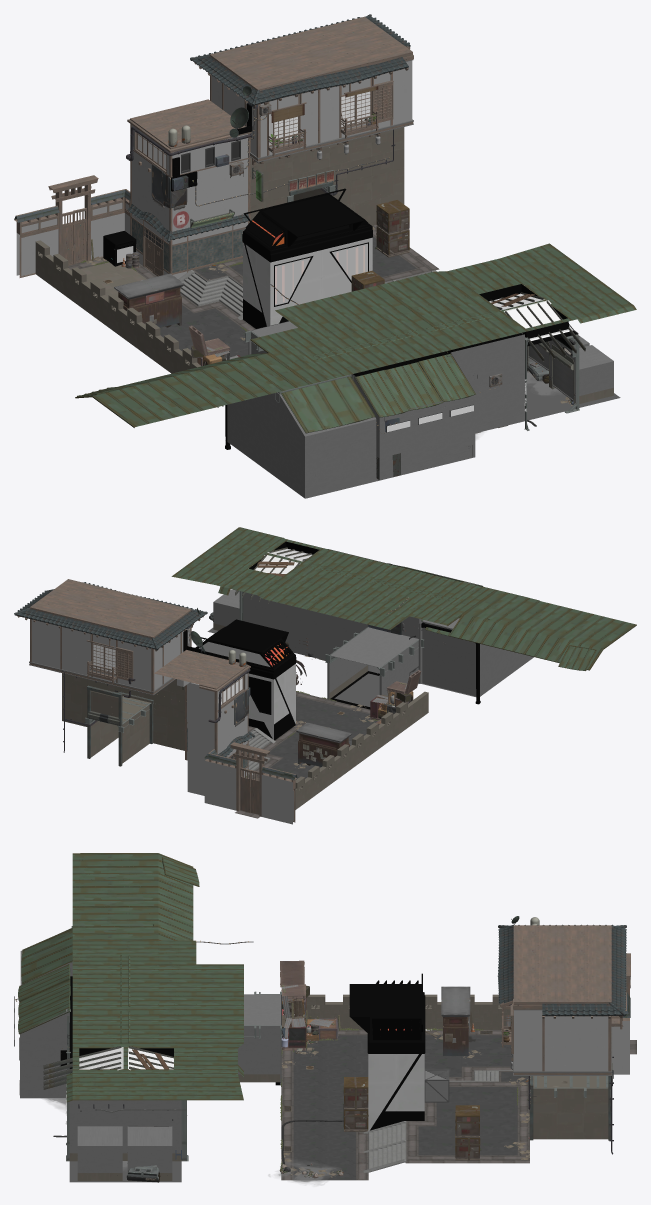
The model's file is split.glb.
3 views of the same model, one above another, from view 1: azimuth 30°, elevation 25°; view 2: azimuth 150°, elevation 25°; view 3: azimuth 270°, elevation 25° (orthographic). The views are drawn at different scales.
Parts seen in each view (by area): view 1: StaticMeshComponent0.143, StaticMeshComponent0.002, StaticMeshComponent0.039, StaticMeshComponent0.157, StaticMeshComponent0.189, StaticMeshComponent0.186, StaticMeshComponent0.184, StaticMeshComponent0.160, StaticMeshComponent0.185, StaticMeshComponent0.161, StaticMeshComponent0.174, StaticMeshComponent0.173 (+20 smaller); view 2: StaticMeshComponent0.143, StaticMeshComponent0.002, StaticMeshComponent0.039, StaticMeshComponent0.186, StaticMeshComponent0.185, StaticMeshComponent0.157, StaticMeshComponent0.158, StaticMeshComponent0.163, StaticMeshComponent0.174, StaticMeshComponent0.189, StaticMeshComponent0.173, StaticMeshComponent0.184 (+12 smaller); view 3: StaticMeshComponent0.143, StaticMeshComponent0.174, StaticMeshComponent0.039, StaticMeshComponent0.162, StaticMeshComponent0.175, StaticMeshComponent0.185, StaticMeshComponent0.186, StaticMeshComponent0.184, StaticMeshComponent0.188, StaticMeshComponent0.163, StaticMeshComponent0.161, StaticMeshComponent0.244 (+20 smaller).
Part boxes in pixels (left/top/right/bottom): StaticMeshComponent0.143: left=75, top=243, right=636, bottom=427; StaticMeshComponent0.002: left=127, top=99, right=251, bottom=278; StaticMeshComponent0.039: left=242, top=188, right=372, bottom=328; StaticMeshComponent0.157: left=227, top=392, right=376, bottom=498; StaticMeshComponent0.189: left=250, top=127, right=404, bottom=225; StaticMeshComponent0.186: left=210, top=55, right=413, bottom=162; StaticMeshComponent0.184: left=224, top=36, right=412, bottom=107; StaticMeshComponent0.160: left=379, top=393, right=475, bottom=480; StaticMeshComponent0.185: left=190, top=14, right=410, bottom=83; StaticMeshComponent0.161: left=450, top=334, right=524, bottom=433; StaticMeshComponent0.174: left=68, top=258, right=255, bottom=358; StaticMeshComponent0.173: left=14, top=189, right=130, bottom=277; StaticMeshComponent0.143: left=171, top=527, right=636, bottom=670; StaticMeshComponent0.002: left=154, top=650, right=250, bottom=795; StaticMeshComponent0.039: left=195, top=619, right=296, bottom=740; StaticMeshComponent0.186: left=29, top=619, right=191, bottom=695; StaticMeshComponent0.185: left=14, top=589, right=183, bottom=651; StaticMeshComponent0.157: left=422, top=618, right=533, bottom=696; StaticMeshComponent0.158: left=243, top=592, right=419, bottom=660; StaticMeshComponent0.163: left=327, top=623, right=420, bottom=699; StaticMeshComponent0.174: left=235, top=691, right=377, bottom=818; StaticMeshComponent0.189: left=62, top=673, right=184, bottom=750; StaticMeshComponent0.173: left=204, top=749, right=297, bottom=824; StaticMeshComponent0.184: left=51, top=579, right=207, bottom=631; StaticMeshComponent0.143: left=66, top=853, right=243, bottom=1102; StaticMeshComponent0.174: left=281, top=1030, right=636, bottom=1180; StaticMeshComponent0.039: left=349, top=973, right=425, bottom=1130; StaticMeshComponent0.162: left=69, top=1100, right=181, bottom=1180; StaticMeshComponent0.175: left=405, top=1071, right=529, bottom=1163; StaticMeshComponent0.185: left=542, top=924, right=626, bottom=1018; StaticMeshComponent0.186: left=513, top=999, right=612, bottom=1075; StaticMeshComponent0.184: left=497, top=924, right=557, bottom=1007; StaticMeshComponent0.188: left=533, top=1076, right=608, bottom=1139; StaticMeshComponent0.163: left=238, top=994, right=281, bottom=1083; StaticMeshComponent0.161: left=20, top=1010, right=69, bottom=1097; StaticMeshComponent0.244: left=441, top=986, right=470, bottom=1055.
Bounding box in the file's own units: 47.95 × 17.68 × 50.08.
127 materials, 120 textured.
